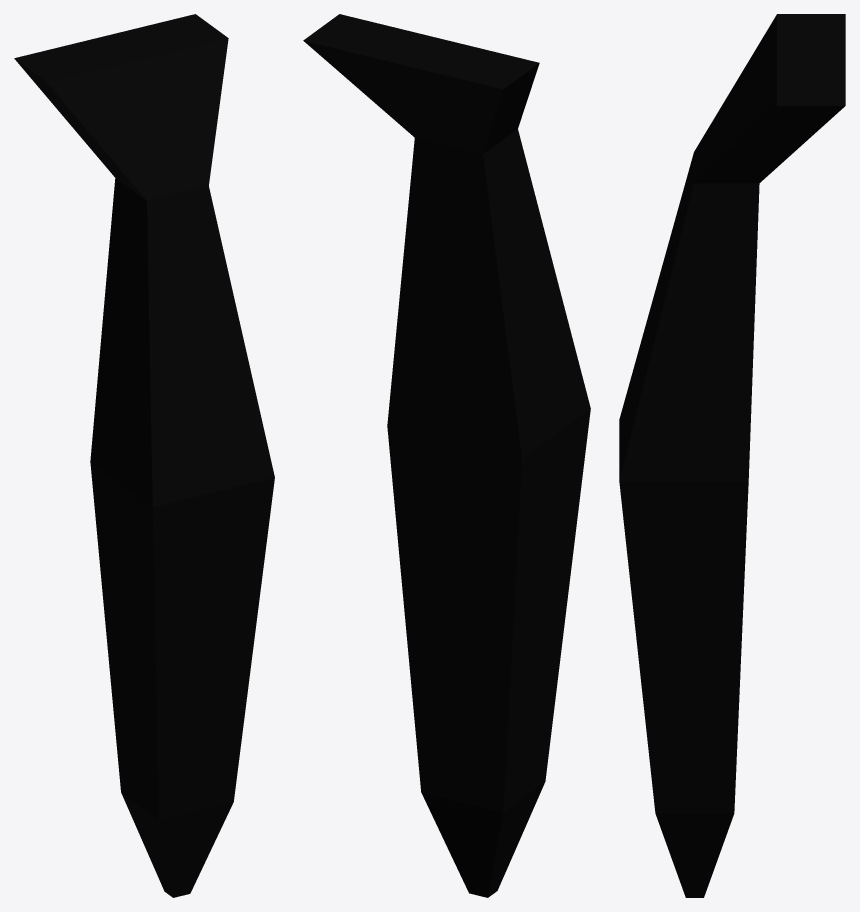
The model's file is Tie Black.fbx.
3 views of the same model, side by side, from view 1: azimuth 30°, elevation 25°; view 2: azimuth 150°, elevation 25°; view 3: azimuth 270°, elevation 25° (orthographic). The views are drawn at different scales.
Visible parts, largest first — view 1: Tie Black; view 2: Tie Black; view 3: Tie Black.
Boxes of the visible parts, <box> form: Tie Black: <box>14,14,274,897</box>; Tie Black: <box>303,14,590,897</box>; Tie Black: <box>619,14,845,897</box>.
Size of the model in its own units: 11.47 by 48.49 by 11.93.
1 material, 1 textured.
